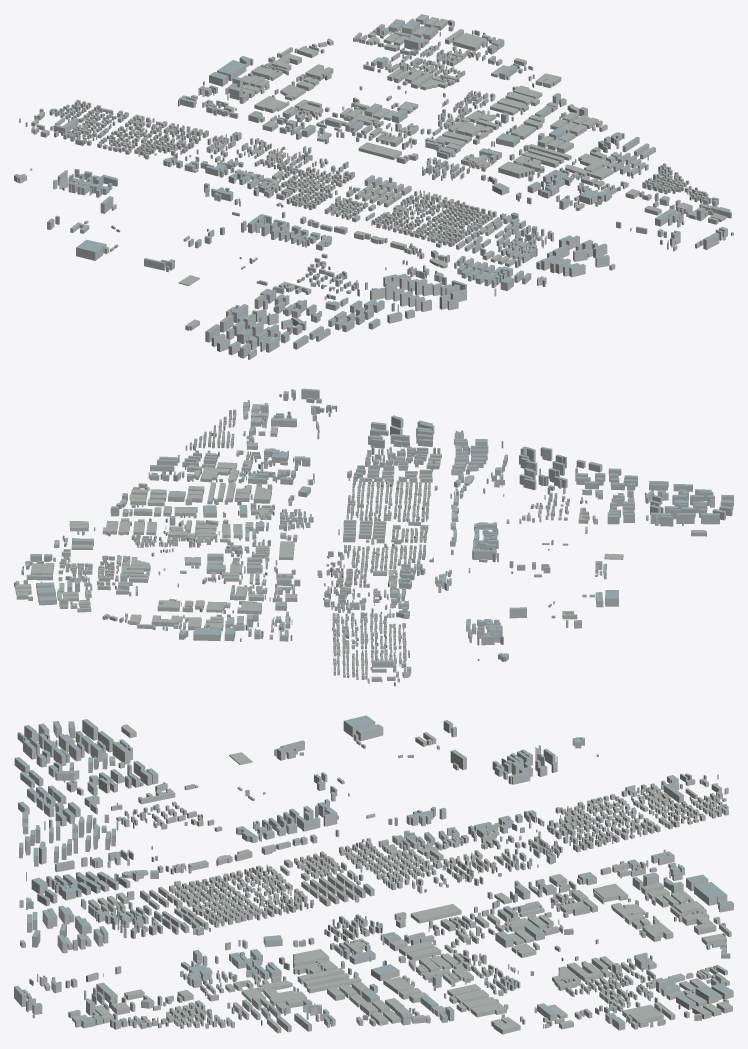
The model's file is far.glb.
3 renders of one model, top to bottom at view 1: azimuth 30°, elevation 25°; view 2: azimuth 150°, elevation 25°; view 3: azimuth 270°, elevation 25°, orthographic. The views are drawn at different scales.
Size of the model in its own units: 2157 by 50.3 by 2123.
